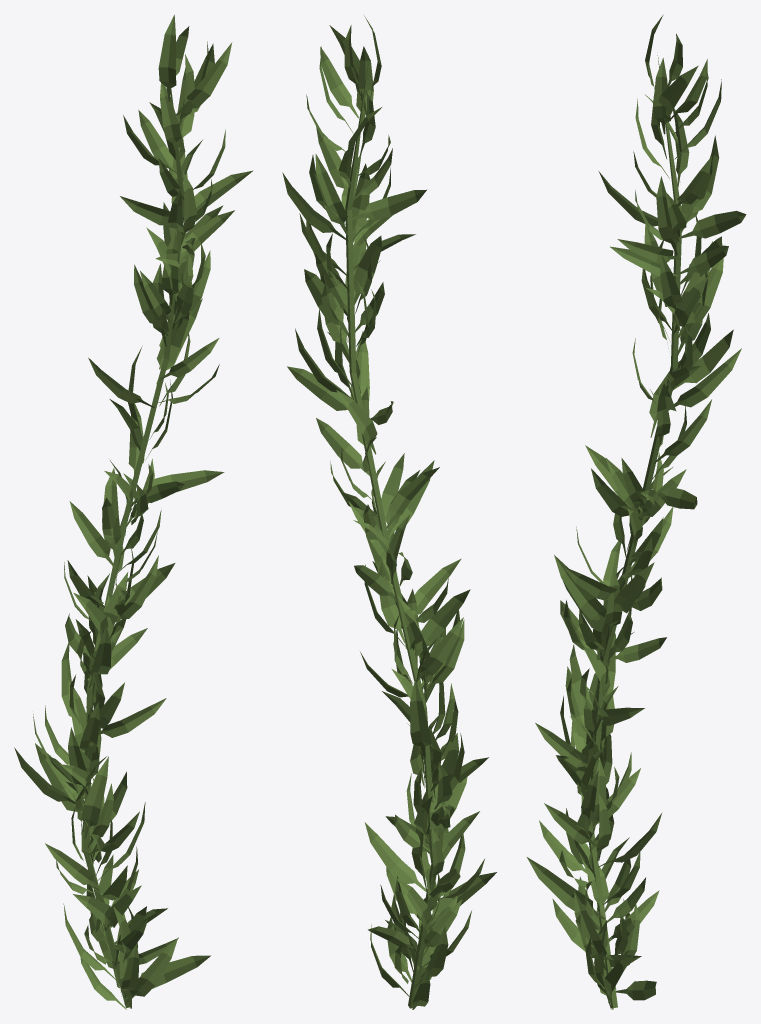
Rendered from Kelp_Baked.fbx.
The picture shows the model from 3 angles, left to right: view 1: azimuth 30°, elevation 25°; view 2: azimuth 150°, elevation 25°; view 3: azimuth 330°, elevation 25°; orthographic projection. The views are drawn at different scales.
Visible parts, largest first — view 1: Kelp01; view 2: Kelp01; view 3: Kelp01.
Boxes of the visible parts, left/top/right/bottom form: Kelp01: left=14, top=14, right=252, bottom=1009; Kelp01: left=282, top=15, right=496, bottom=1009; Kelp01: left=527, top=14, right=746, bottom=1009.
Size of the model in its own units: 573 by 2682 by 335.
